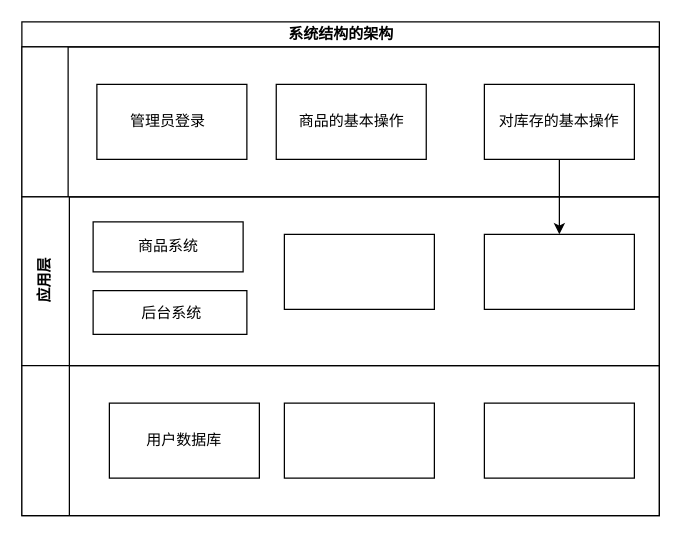
Image size: 681x538. Some labels were removed from this diagram. Each missing label, with the box of its shape:
库存系统: (283, 233, 434, 309)
数据库层: (21, 364, 659, 516)
系统管理系统: (483, 233, 634, 309)
表现层: (21, 46, 659, 197)
